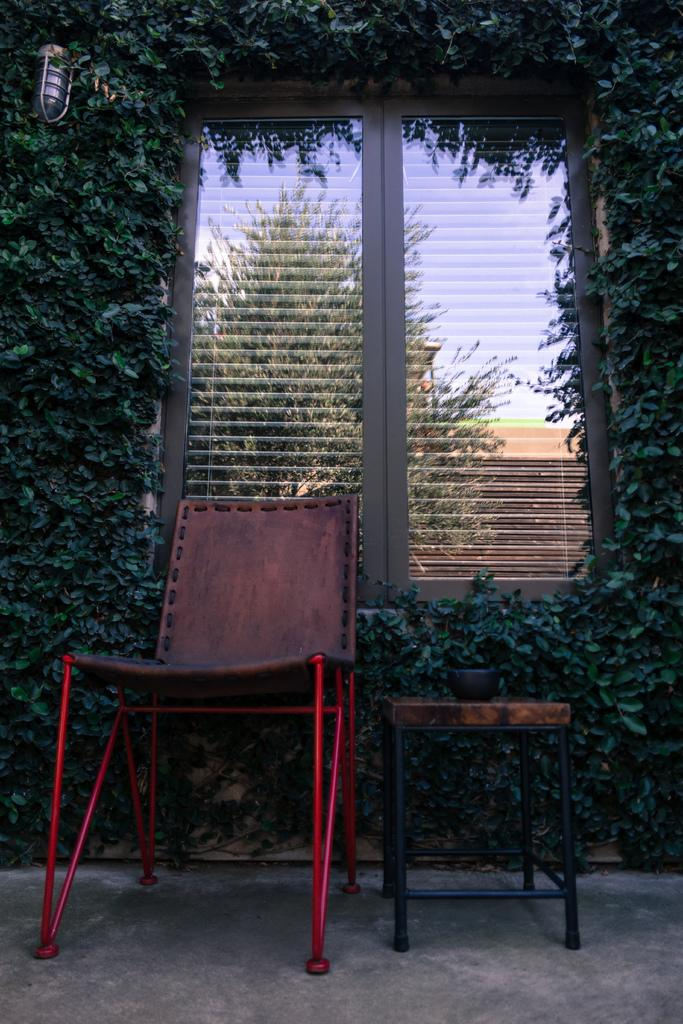Chair: (29, 528, 388, 970)
